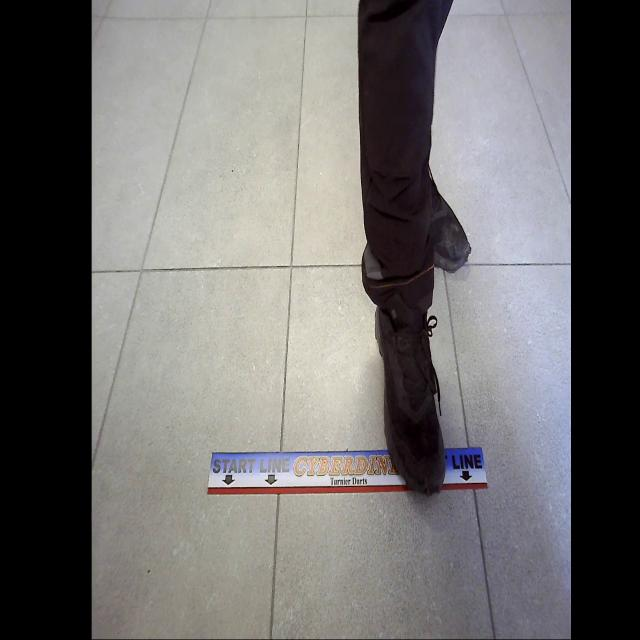foot: (373, 292, 448, 501), (427, 166, 471, 272)
